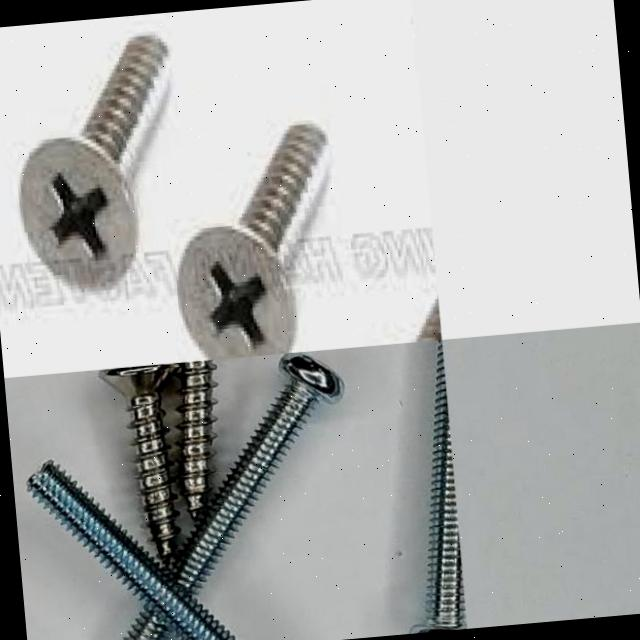Screw: (28, 353, 342, 640), (12, 24, 189, 308), (171, 103, 351, 361), (26, 463, 238, 640), (410, 339, 467, 633), (99, 363, 178, 565), (176, 359, 215, 517)
